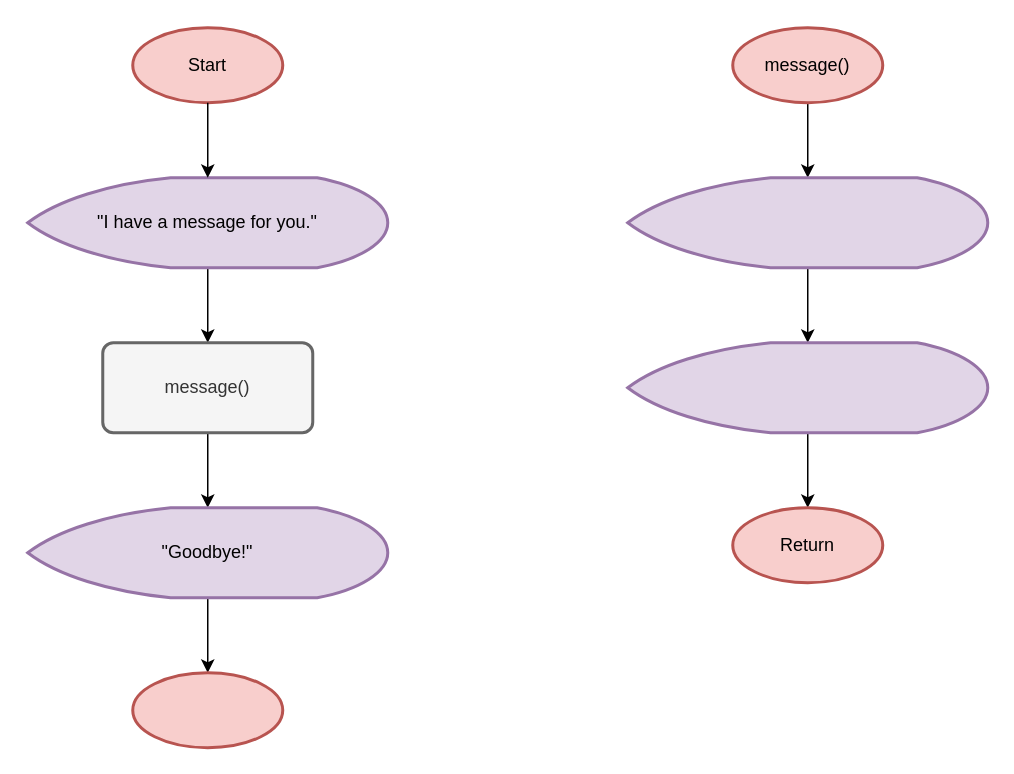
The diagram is 1014 pixels wide and 774 high, and some of its shapes have lost their labels. Each missing label, with the centre of its shape:
"I am Arthur": (x=807, y=222)
"King of the Britons": (x=807, y=387)
End: (x=207, y=709)
